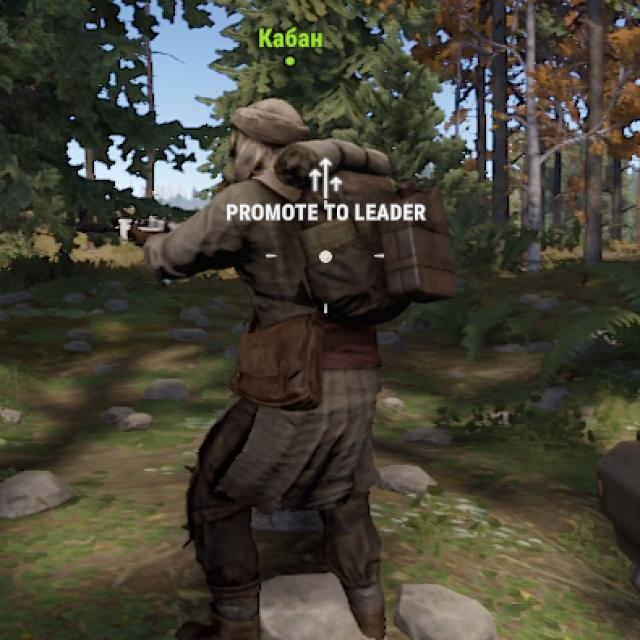Player: (163, 98, 401, 640)
